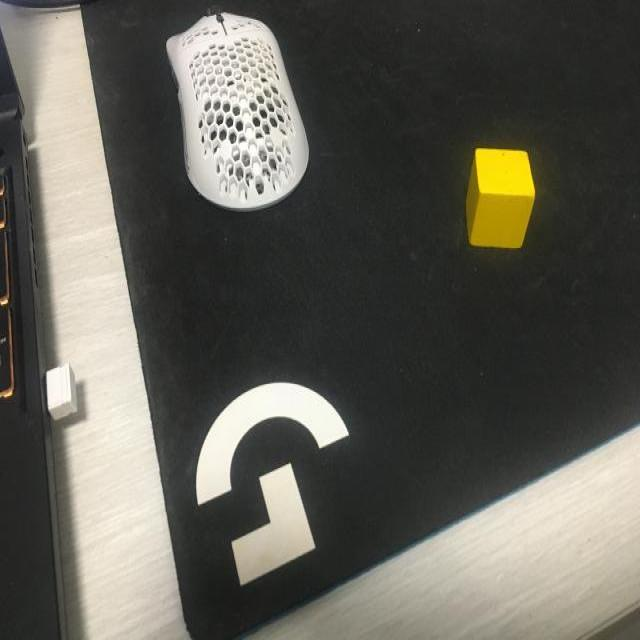yellow: (467, 150, 536, 248)
